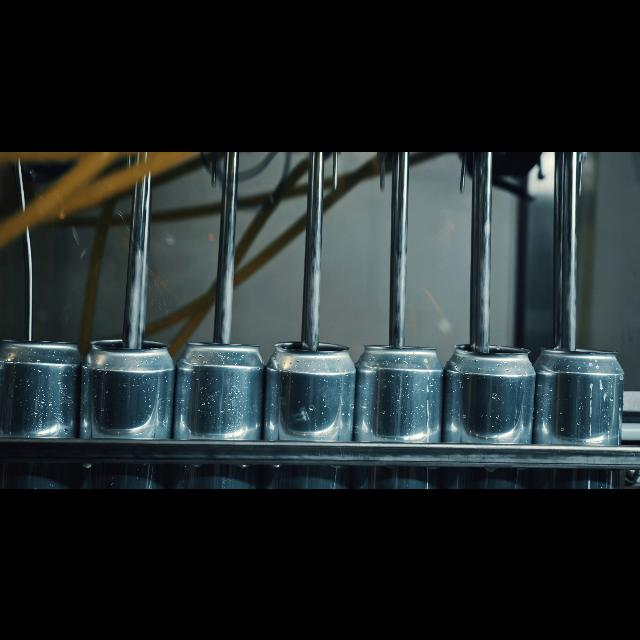empty: (86, 329, 178, 489), (270, 336, 358, 488), (448, 338, 534, 488), (540, 342, 626, 488), (2, 328, 80, 488), (184, 334, 262, 488), (364, 336, 441, 488)
